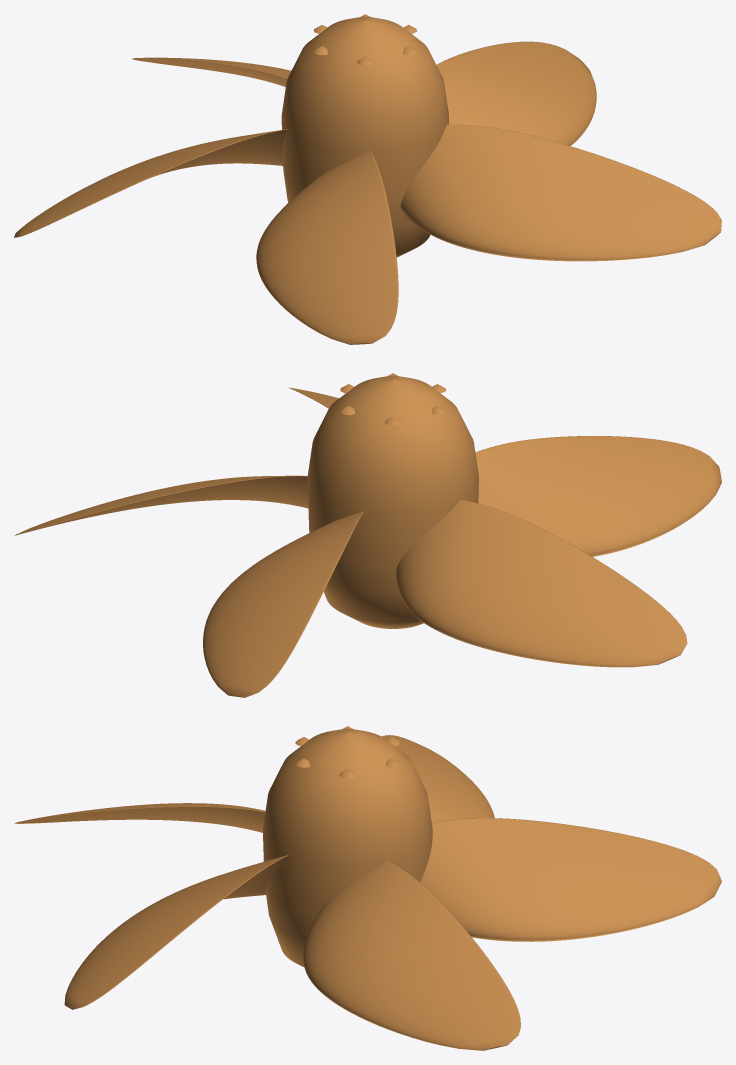
Rendered from propeller.glb.
The picture shows the model from 3 angles, top to bottom: view 1: azimuth 30°, elevation 25°; view 2: azimuth 150°, elevation 25°; view 3: azimuth 270°, elevation 25°; orthographic projection. The views are drawn at different scales.
Parts seen in each view (by area): view 1: Propeller; view 2: Propeller; view 3: Propeller.
Part boxes in pixels (x1=…): Propeller: x1=14, y1=14, x2=721, y2=344; Propeller: x1=14, y1=373, x2=721, y2=697; Propeller: x1=14, y1=726, x2=721, y2=1050.
Bounding box in the file's own units: 8.71 × 3.12 × 8.66.
